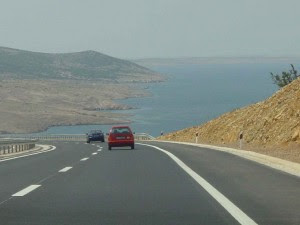car: (105, 126, 135, 150), (84, 128, 104, 141)
strada: (1, 144, 295, 224)
